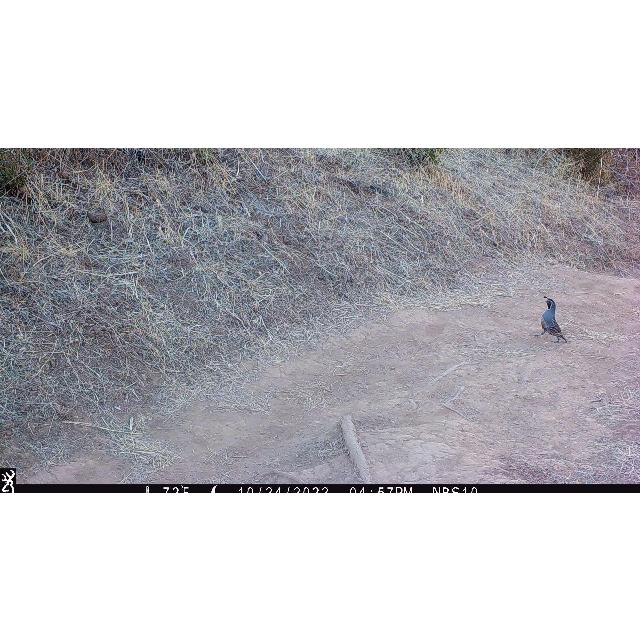animals: (529, 295, 569, 343)
